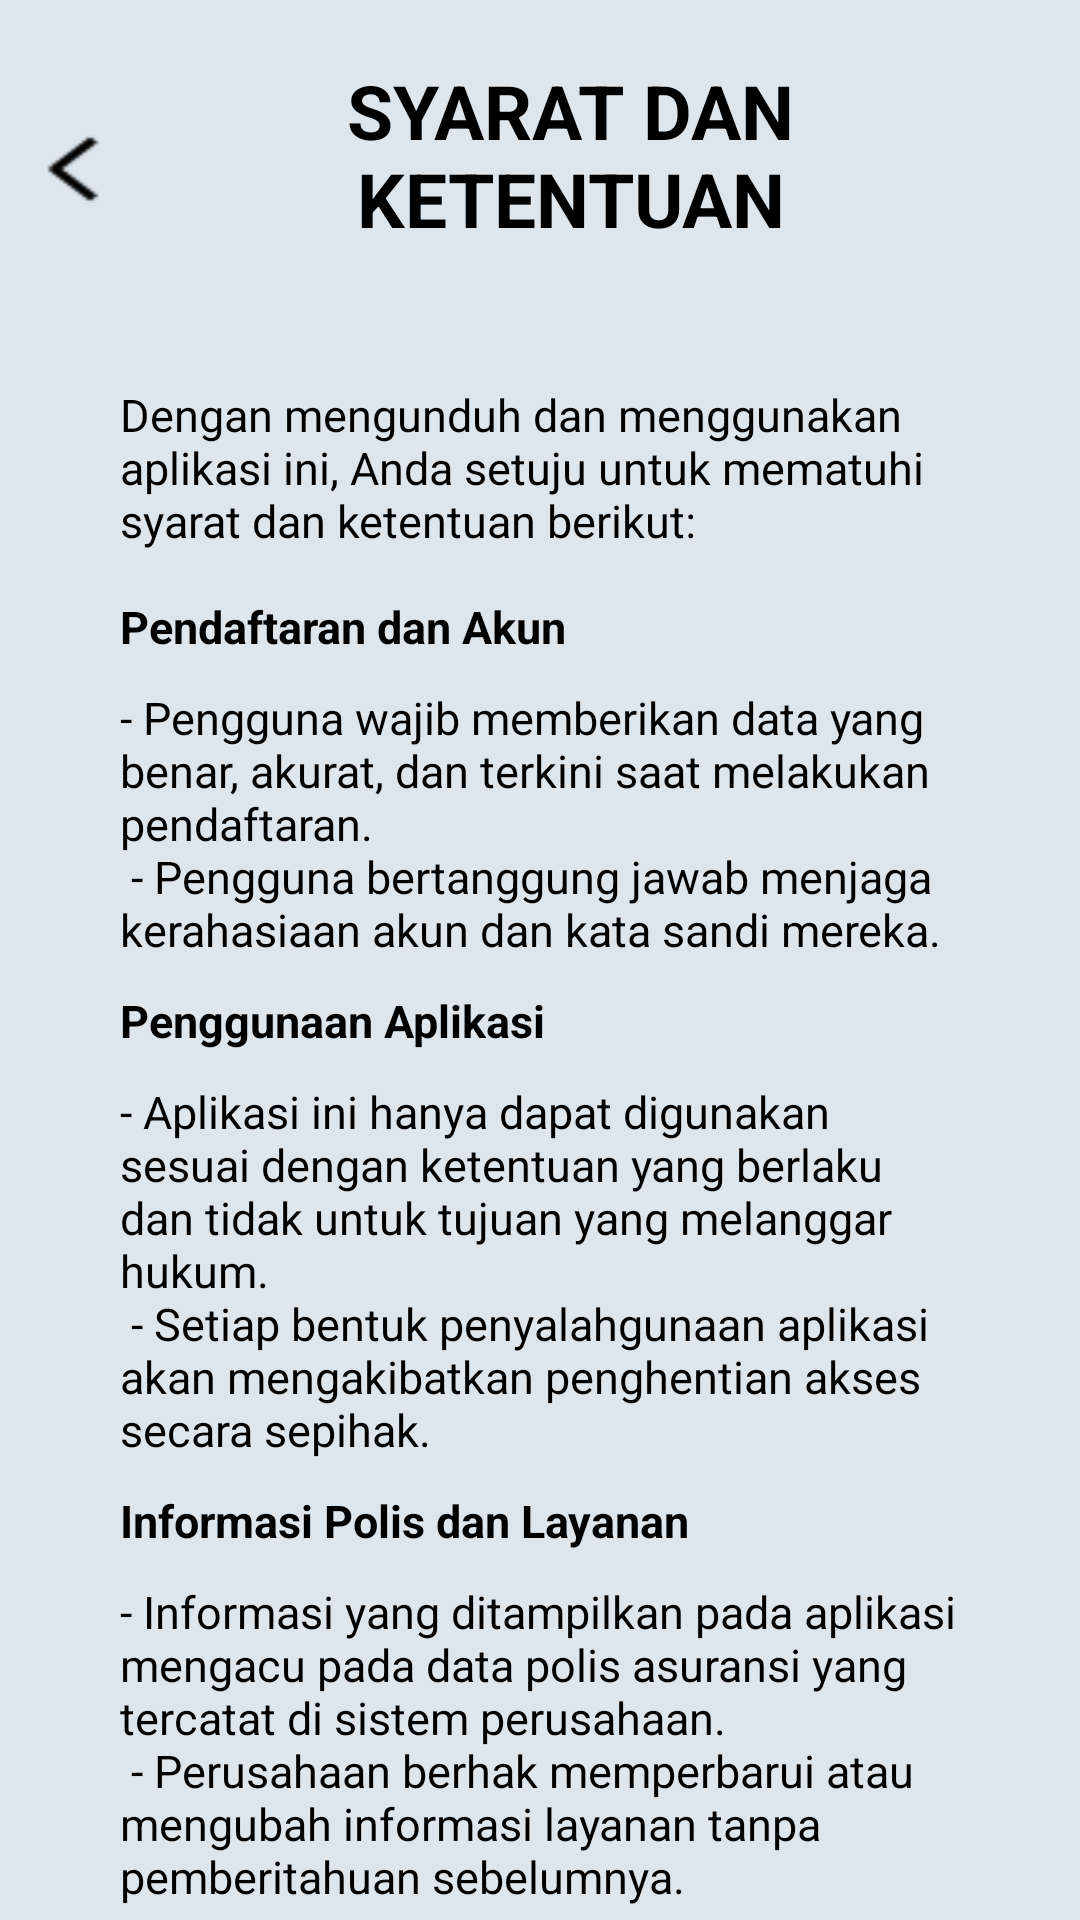

Icons on this 1080 x 1920 Android screen, each with its box as detection(x1, y1, x2, y2):
back hitam: detection(47, 137, 99, 201)
